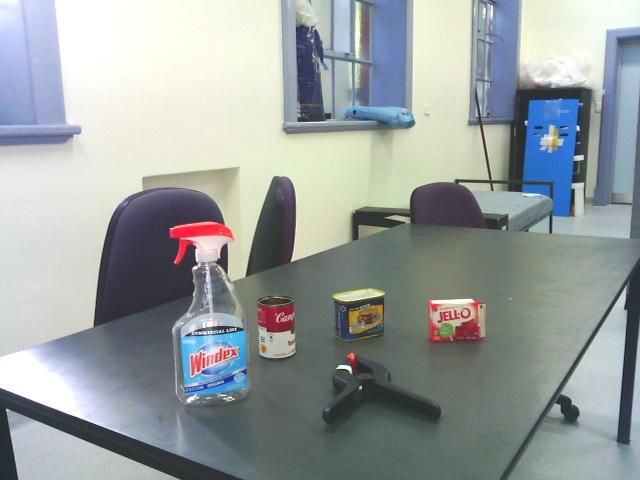005_tomato_soup_can: (256, 294, 300, 360)
009_gelatin_box: (426, 298, 488, 346)
010_potted_meat_can: (330, 286, 387, 342)
052_extra_large_clamp: (315, 347, 442, 435)
